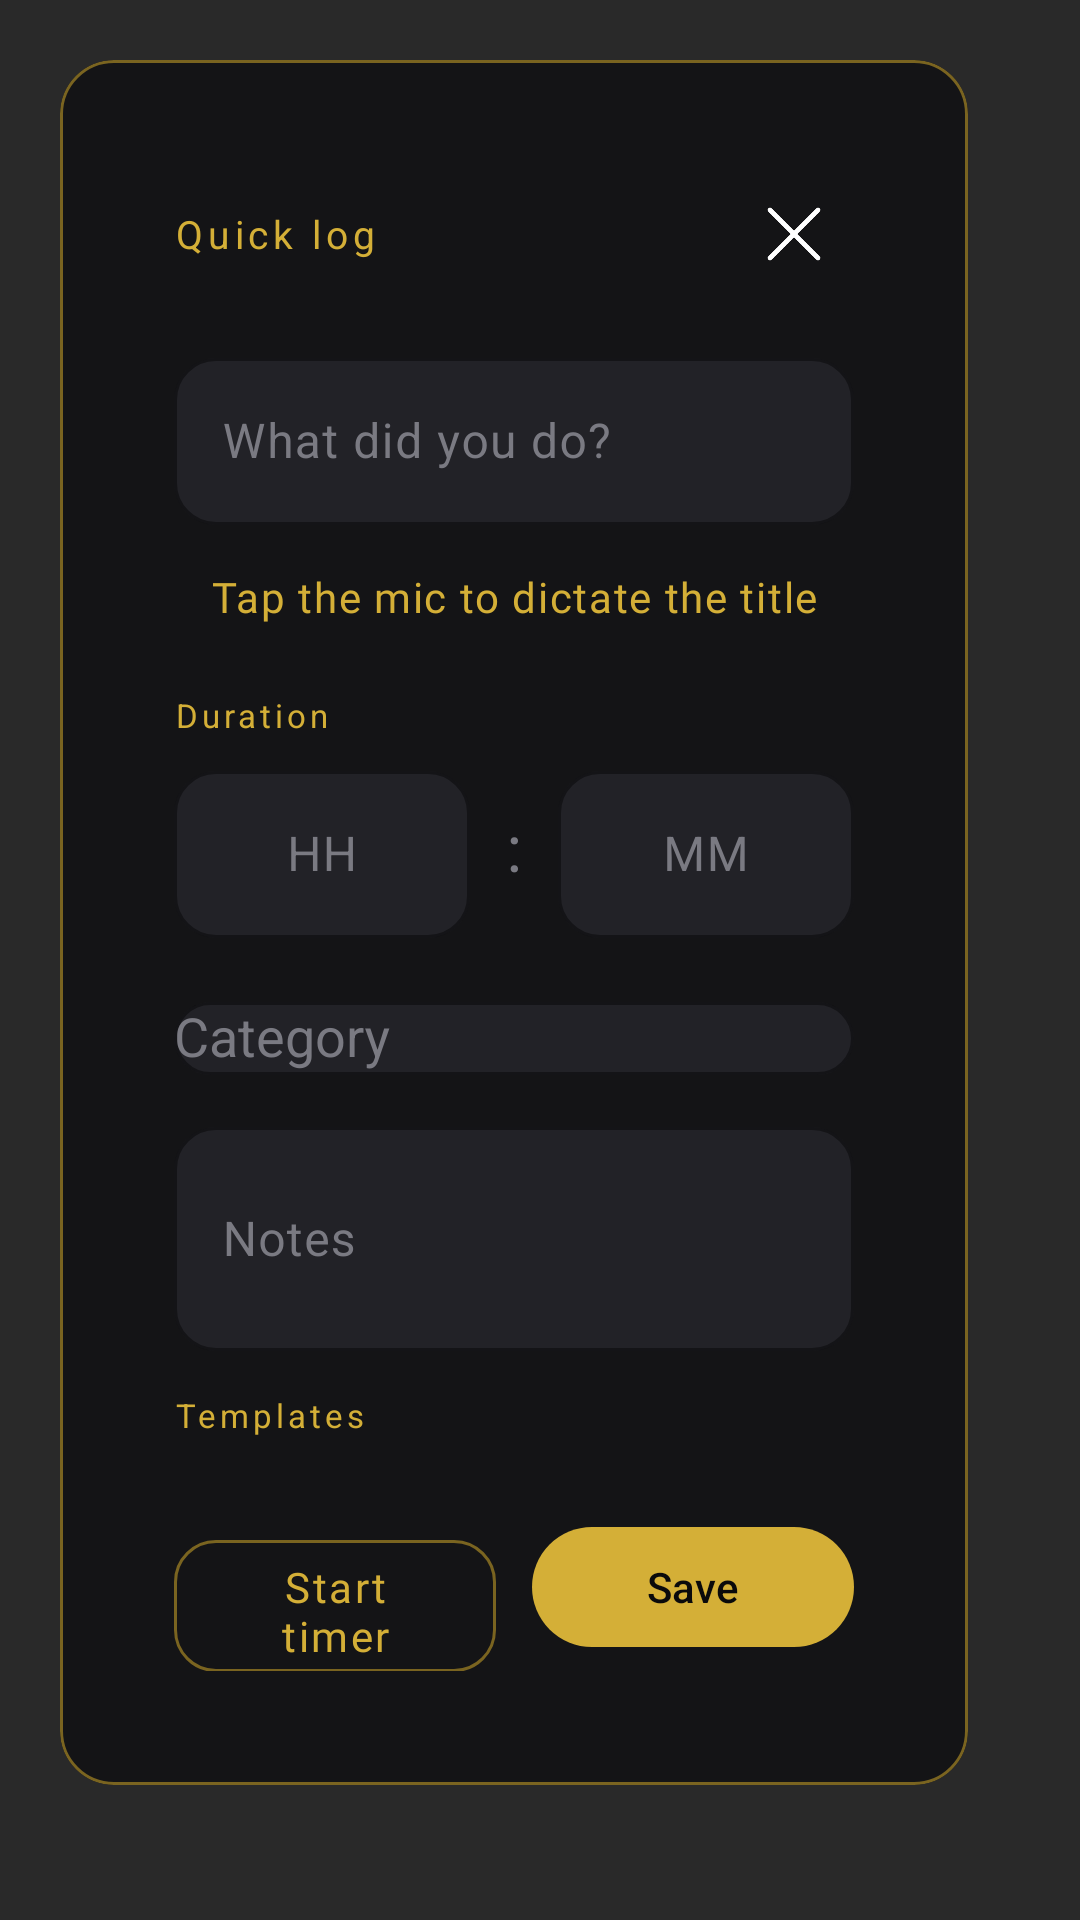

Where to tap for icons on this 1080 × 1920 app screen, as point (x, y):
Close: point (794, 234)
